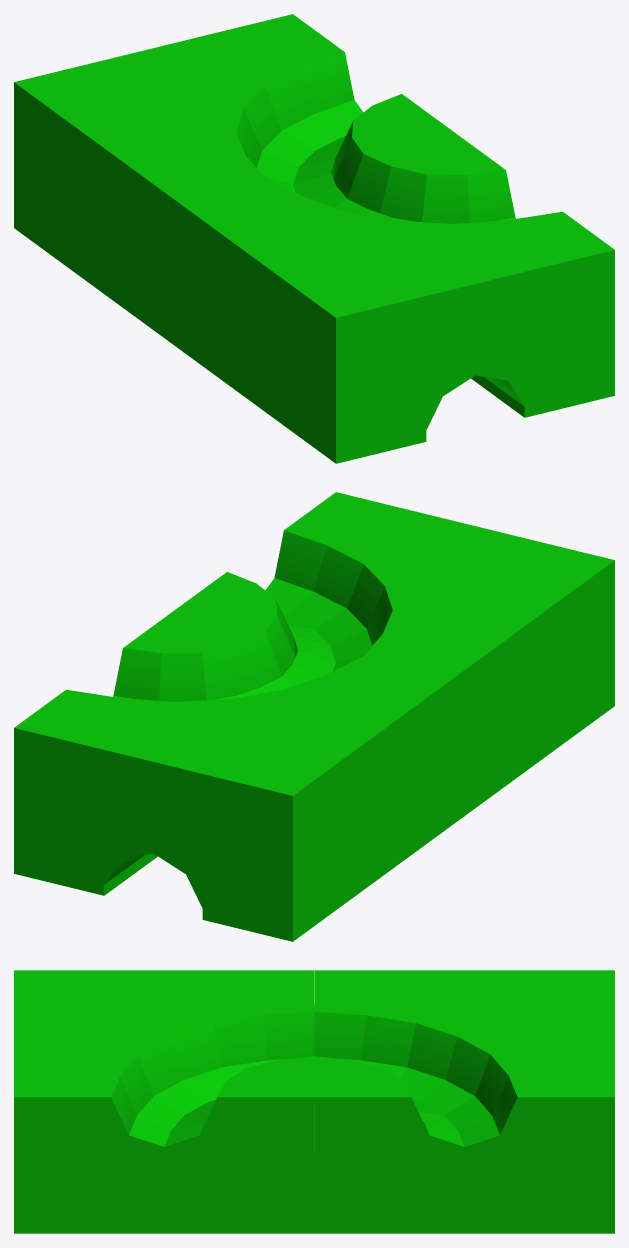
The model's file is UCXKugelbahn.45.fbx.
3 renders of one model, top to bottom at view 1: azimuth 30°, elevation 25°; view 2: azimuth 150°, elevation 25°; view 3: azimuth 270°, elevation 25°, orthographic. The views are drawn at different scales.
Visible parts, largest first — view 1: UCX_Kugelbahn.45_low; view 2: UCX_Kugelbahn.45_low; view 3: UCX_Kugelbahn.45_low.
Boxes of the visible parts, <box> form: UCX_Kugelbahn.45_low: <box>14,14,614,463</box>; UCX_Kugelbahn.45_low: <box>14,492,614,941</box>; UCX_Kugelbahn.45_low: <box>14,970,614,1233</box>.
Size of the model in its own units: 0.05 by 0.025 by 0.1.
